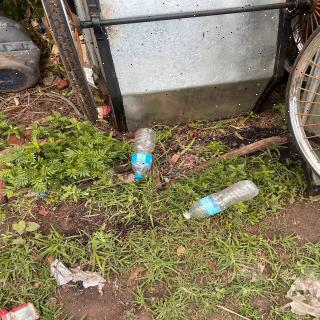Plastic-bottle: (181, 179, 264, 225), (127, 126, 160, 184)
